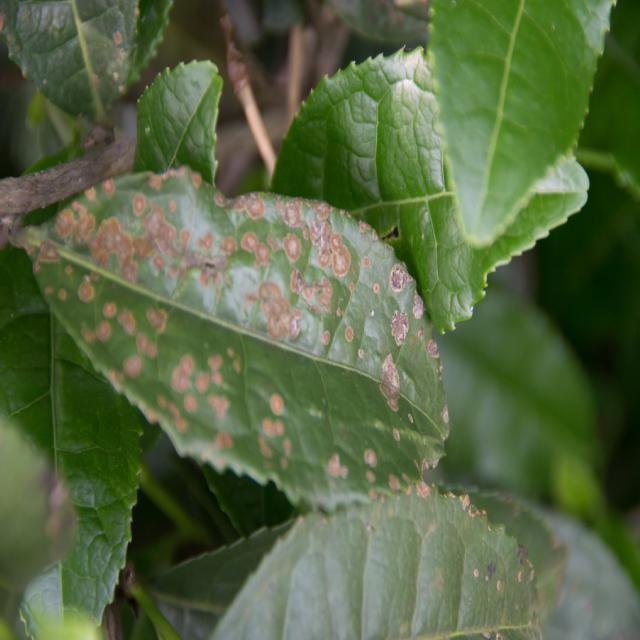Tea algae leaf spot: (72, 169, 454, 511)
